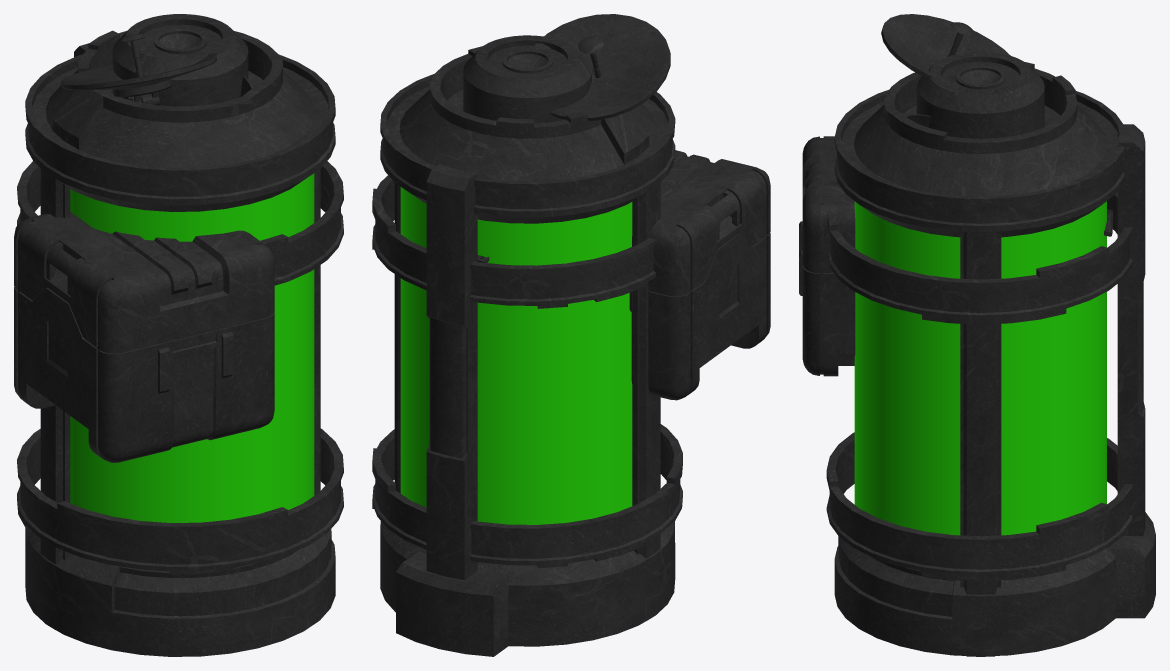
Rendered from ArrayOfMeshes.fbx.
3 views of the same model, side by side, from view 1: azimuth 30°, elevation 25°; view 2: azimuth 150°, elevation 25°; view 3: azimuth 270°, elevation 25° (orthographic). The views are drawn at different scales.
Visible parts, largest first — view 1: SM_Core, SM_Crate, SM_Terminal; view 2: SM_Core, SM_Crate, SM_Terminal; view 3: SM_Core, SM_Crate, SM_Terminal.
Part boxes in pixels (x1,y1,x2,y2): SM_Core: [17, 14, 343, 656]; SM_Crate: [14, 212, 274, 462]; SM_Terminal: [61, 34, 253, 105]; SM_Core: [372, 35, 682, 656]; SM_Crate: [629, 150, 770, 400]; SM_Terminal: [477, 14, 670, 262]; SM_Core: [826, 51, 1155, 656]; SM_Crate: [799, 136, 855, 376]; SM_Terminal: [881, 14, 1112, 236].
Bounding box in the file's own units: 269 × 482 × 286.
